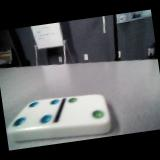domino: (7, 95, 111, 141)
